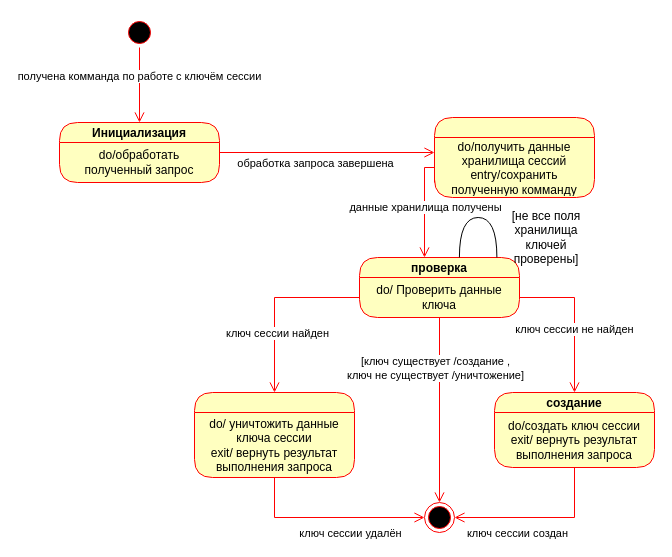
This 672x557 diagram has some shape labels left out. Here are the shapes that lost their labels. From the top down, the box of each, then its label:
(434, 116, 594, 198): получение
(194, 392, 354, 478): уничтожение
